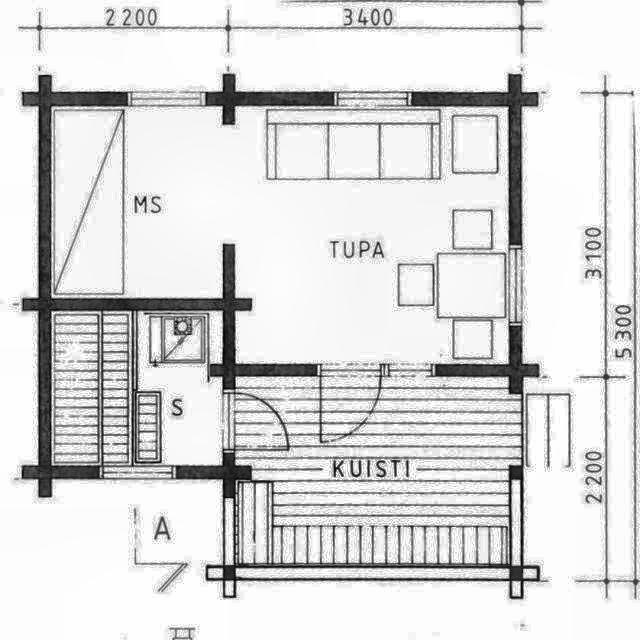room: (52, 107, 508, 364), (50, 310, 222, 466)
